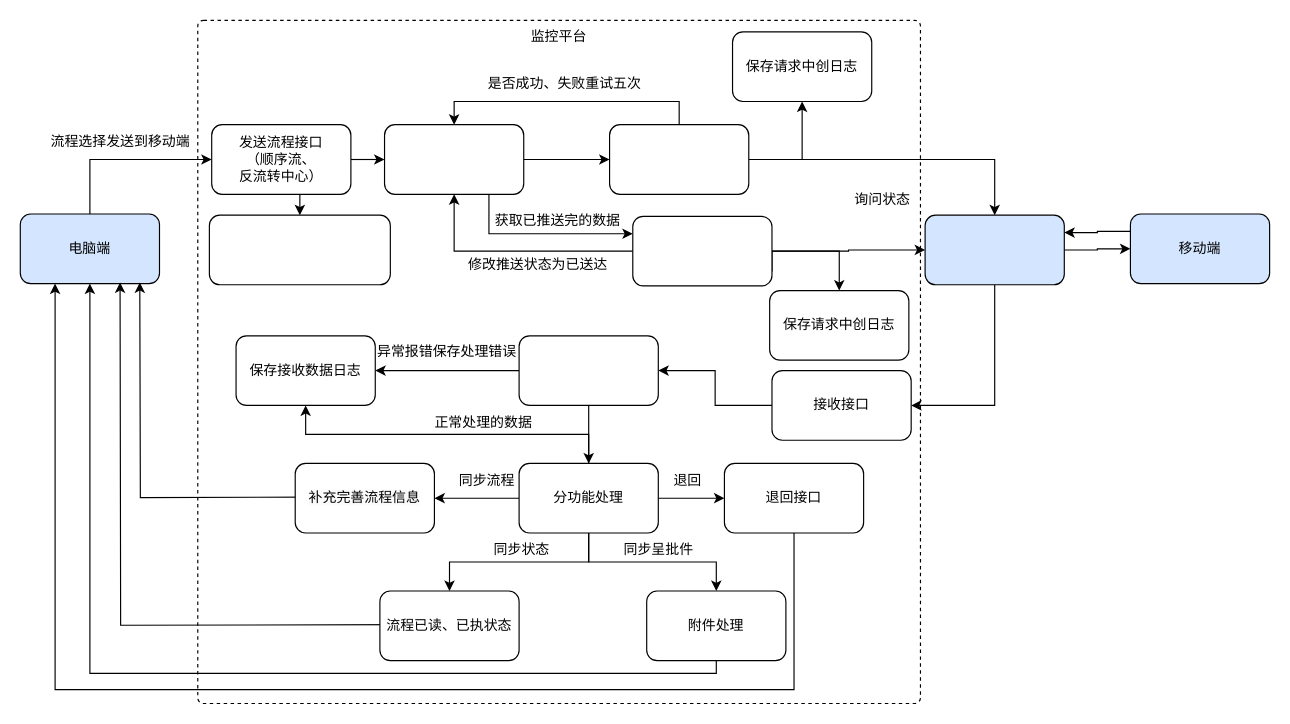
The diagram is 1290 pixels wide and 724 high, and some of its shapes have lost their labels. Here are the shapes that lost their labels. From the top down, the centre of each, then its label:
At (453,159): "保存推送数据日志".
At (678,159): "推送服务".
At (299,249): "正常流程处理逻辑 不发待办提醒等后续操作".
At (702,250): "抓取状态服务".
At (994,249): "中创交换系统".
At (588,370): "解析、数据处理".
